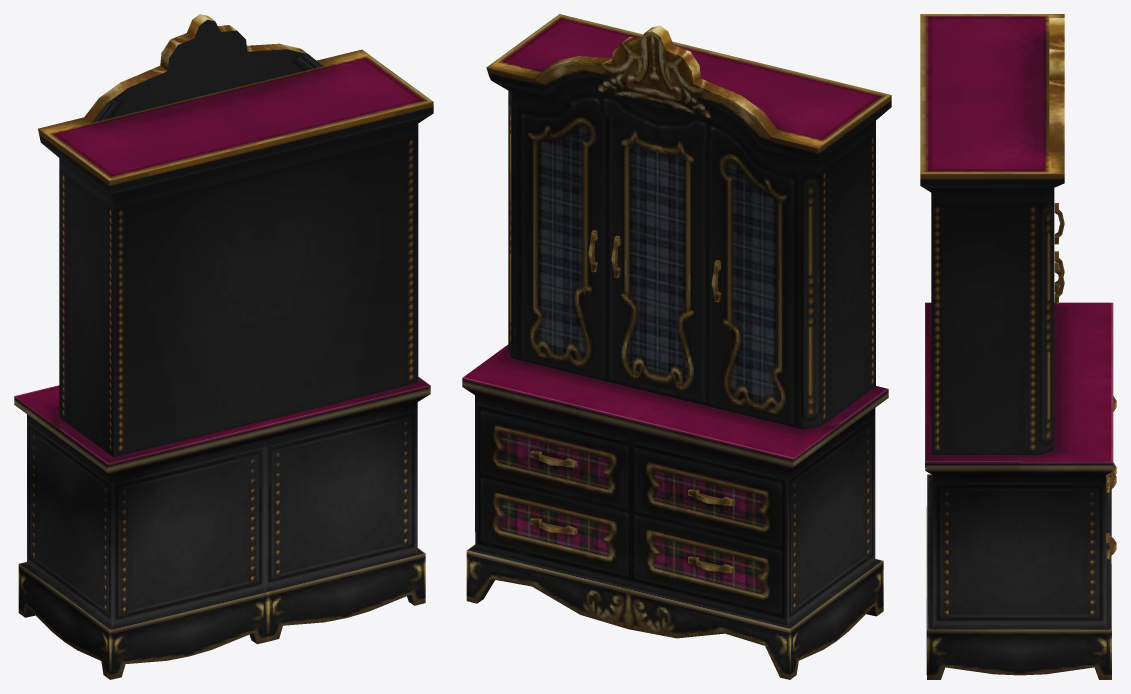
The model's file is furni_0200315_01.FBX.
3 views of the same model, side by side, from view 1: azimuth 30°, elevation 25°; view 2: azimuth 150°, elevation 25°; view 3: azimuth 270°, elevation 25° (orthographic). The views are drawn at different scales.
Parts seen in each view (by area): view 1: furni_0200315_01; view 2: furni_0200315_01; view 3: furni_0200315_01.
Part boxes in pixels (bbox=[...]): furni_0200315_01: bbox=[14, 14, 433, 679]; furni_0200315_01: bbox=[462, 14, 891, 679]; furni_0200315_01: bbox=[920, 14, 1116, 679].
Size of the model in its own units: 164 by 279 by 85.12.
1 material, 1 textured.
